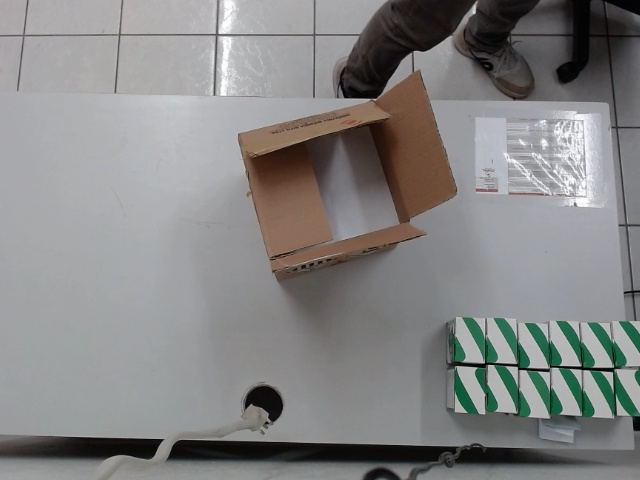caixa_principal: (229, 69, 460, 282)
